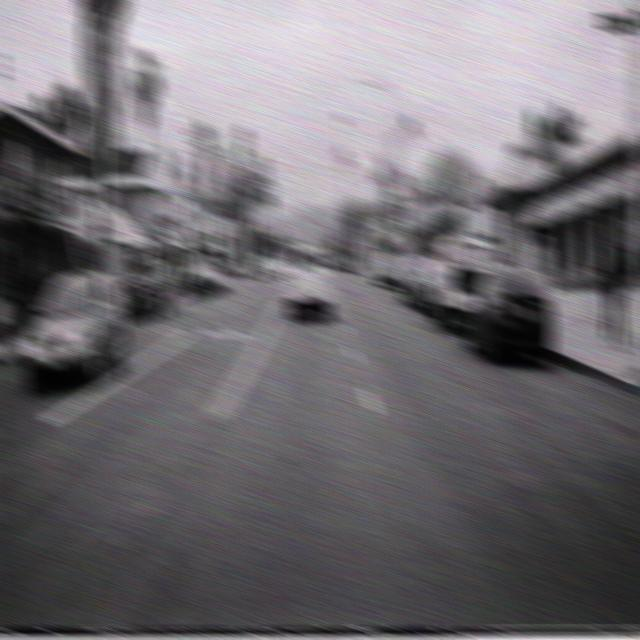pedestrianCrossing: (468, 161, 494, 201)
